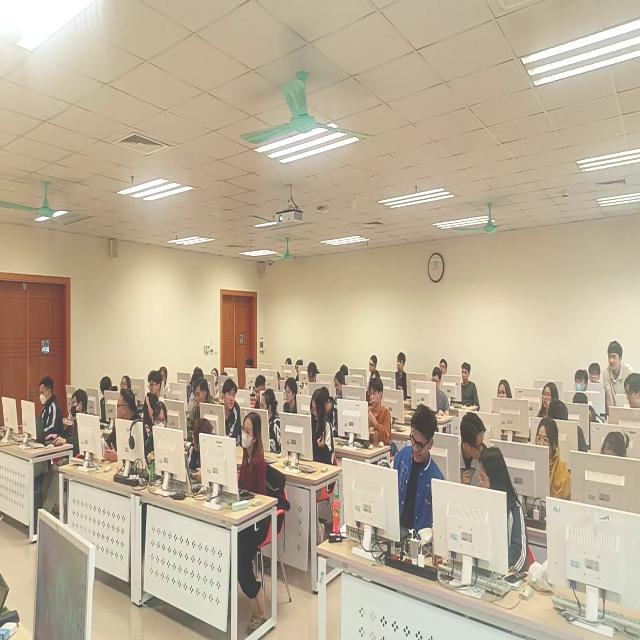raise_head: (239, 410, 268, 496), (142, 370, 163, 423), (460, 363, 481, 413), (392, 352, 409, 397), (540, 379, 560, 416), (573, 365, 591, 394), (497, 376, 514, 400), (589, 362, 605, 385), (160, 366, 170, 396), (209, 366, 219, 388), (120, 375, 132, 393), (439, 357, 450, 373)
stand: (605, 339, 638, 403)
using_computer: (536, 416, 572, 503), (548, 399, 590, 453), (58, 388, 91, 452), (310, 388, 335, 469), (36, 376, 64, 441), (429, 364, 451, 420), (189, 377, 211, 429), (573, 388, 604, 424), (599, 428, 631, 459), (323, 385, 342, 436), (99, 377, 117, 421), (282, 378, 299, 416), (253, 373, 268, 411), (333, 371, 348, 402), (366, 352, 378, 376), (309, 361, 320, 385), (244, 354, 256, 375), (341, 361, 350, 377), (295, 357, 304, 373), (220, 368, 229, 381), (284, 357, 294, 367)
using_phone: (366, 376, 394, 453)
